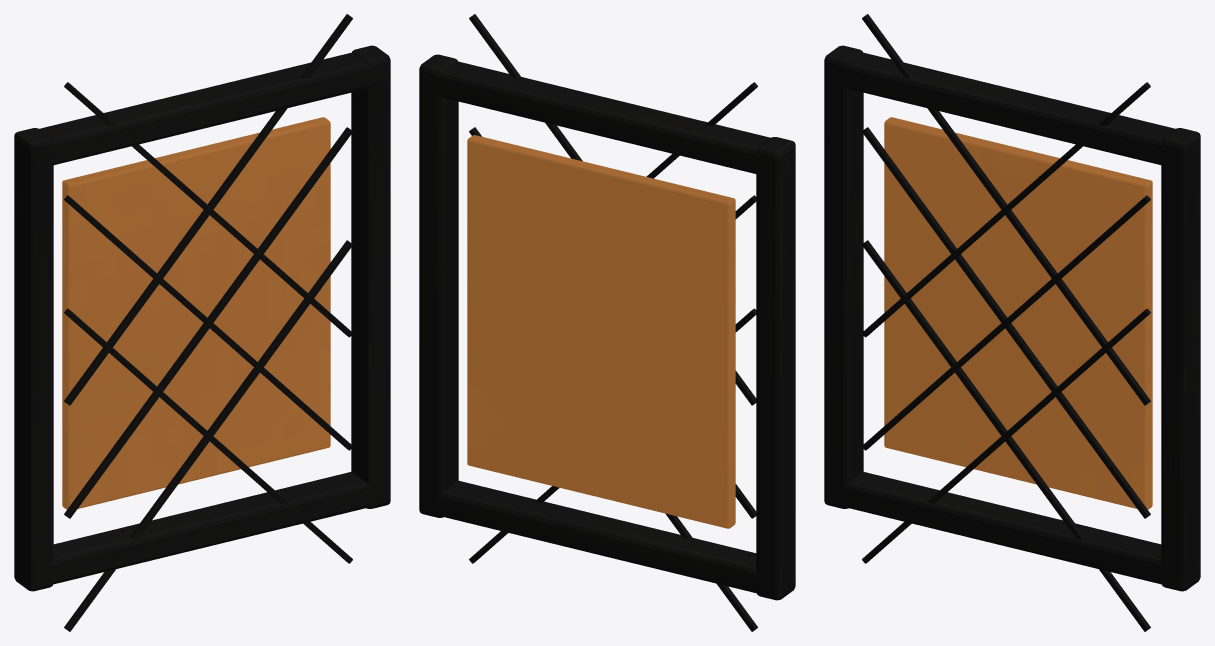
Rendered from prop_town_diamond_window.glb.
The picture shows the model from 3 angles, left to right: view 1: azimuth 30°, elevation 25°; view 2: azimuth 150°, elevation 25°; view 3: azimuth 330°, elevation 25°; orthographic projection.
Parts seen in each view (by area): view 1: iron, glass; view 2: glass, iron; view 3: iron, glass.
Part boxes in pixels (x1=…): iron: x1=14, y1=14, x2=390, y2=631; glass: x1=62, y1=117, x2=330, y2=509; glass: x1=467, y1=135, x2=735, y2=528; iron: x1=419, y1=14, x2=795, y2=631; iron: x1=824, y1=14, x2=1200, y2=631; glass: x1=884, y1=117, x2=1152, y2=509.
Size of the model in its own units: 1.72 by 2.48 by 0.155.
2 materials, 2 textured.
